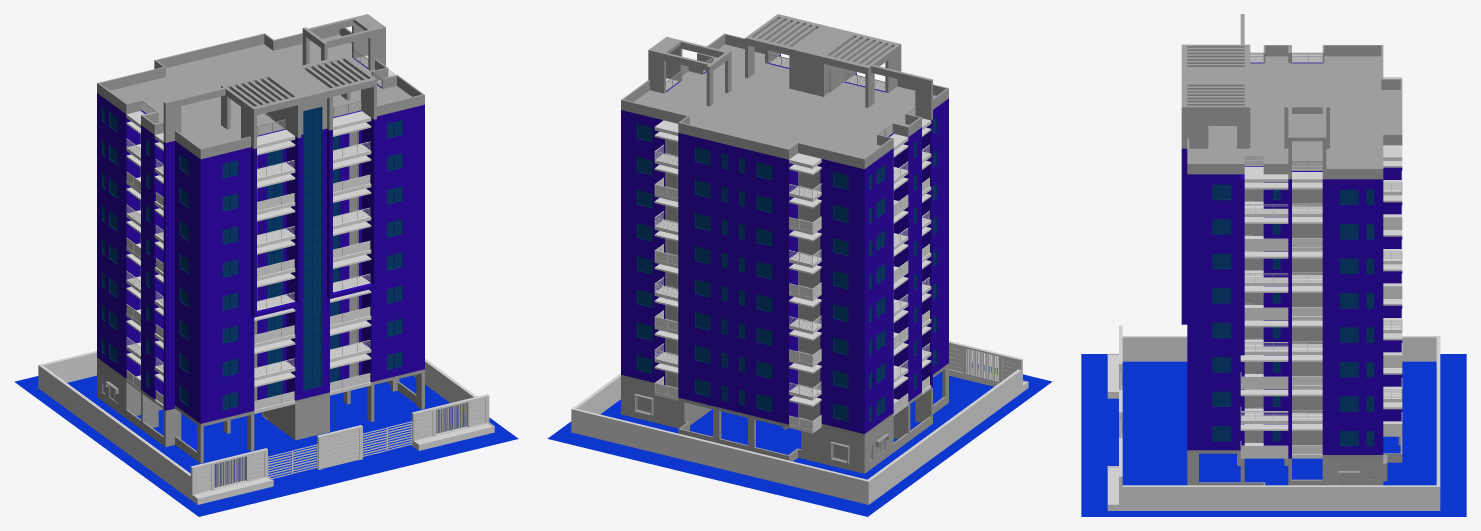
File: apartment_blue.fbx
3 renders of one model, left to right at view 1: azimuth 30°, elevation 25°; view 2: azimuth 150°, elevation 25°; view 3: azimuth 270°, elevation 25°, orthographic. The views are drawn at different scales.
Visible parts, largest first — view 1: Apartment_Building_17_obj:AB17_OBJ_01, Apartment_Building_17_obj:AB17_OBJ_15, Apartment_Building_17_obj:AB17_OBJ_03, ten_ten7, Apartment_Building_17_obj:AB17_OBJ_09, Apartment_Building_17_obj:AB17_OBJ_19, Apartment_Building_17_obj:AB17_OBJ_07, Apartment_Building_17_obj:AB17_OBJ_06, Apartment_Building_17_obj:AB17_OBJ_12, Apartment_Building_17_obj:AB17_OBJ_11, Apartment_Building_17_obj:AB17_OBJ_10, Apartment_Building_17_obj:AB17_OBJ_14 (+1 smaller); view 2: Apartment_Building_17_obj:AB17_OBJ_04, Apartment_Building_17_obj:AB17_OBJ_15, Apartment_Building_17_obj:AB17_OBJ_03, Apartment_Building_17_obj:AB17_OBJ_11, Apartment_Building_17_obj:AB17_OBJ_09, Apartment_Building_17_obj:AB17_OBJ_12, ten_ten7, Apartment_Building_17_obj:AB17_OBJ_06, Apartment_Building_17_obj:AB17_OBJ_10, Apartment_Building_17_obj:AB17_OBJ_07, Apartment_Building_17_obj:AB17_OBJ_05, Apartment_Building_17_obj:AB17_OBJ_14 (+1 smaller); view 3: Apartment_Building_17_obj:AB17_OBJ_02, ten_ten7, Apartment_Building_17_obj:AB17_OBJ_15, Apartment_Building_17_obj:AB17_OBJ_11, Apartment_Building_17_obj:AB17_OBJ_12, Apartment_Building_17_obj:AB17_OBJ_09, Apartment_Building_17_obj:AB17_OBJ_10, Apartment_Building_17_obj:AB17_OBJ_06, Apartment_Building_17_obj:AB17_OBJ_04, Apartment_Building_17_obj:AB17_OBJ_01, Apartment_Building_17_obj:AB17_OBJ_07, Apartment_Building_17_obj:AB17_OBJ_14 (+1 smaller).
Part boxes in pixels (box(x1,y1,x2,y2)): Apartment_Building_17_obj:AB17_OBJ_01: box(199, 104, 424, 423); Apartment_Building_17_obj:AB17_OBJ_15: box(97, 14, 424, 159); Apartment_Building_17_obj:AB17_OBJ_03: box(98, 94, 199, 422); ten_ten7: box(14, 375, 518, 516); Apartment_Building_17_obj:AB17_OBJ_09: box(101, 106, 402, 409); Apartment_Building_17_obj:AB17_OBJ_19: box(254, 111, 371, 413); Apartment_Building_17_obj:AB17_OBJ_07: box(190, 394, 494, 504); Apartment_Building_17_obj:AB17_OBJ_06: box(97, 361, 424, 463); Apartment_Building_17_obj:AB17_OBJ_12: box(38, 350, 476, 499); Apartment_Building_17_obj:AB17_OBJ_11: box(126, 55, 396, 408); Apartment_Building_17_obj:AB17_OBJ_10: box(140, 131, 358, 400); Apartment_Building_17_obj:AB17_OBJ_14: box(142, 49, 381, 135); Apartment_Building_17_obj:AB17_OBJ_04: box(621, 110, 865, 433); Apartment_Building_17_obj:AB17_OBJ_15: box(621, 14, 948, 169); Apartment_Building_17_obj:AB17_OBJ_03: box(865, 99, 948, 433); Apartment_Building_17_obj:AB17_OBJ_11: box(654, 70, 931, 433); Apartment_Building_17_obj:AB17_OBJ_09: box(636, 117, 937, 422); Apartment_Building_17_obj:AB17_OBJ_12: box(571, 369, 1021, 504); ten_ten7: box(547, 362, 1052, 516); Apartment_Building_17_obj:AB17_OBJ_06: box(621, 366, 948, 473); Apartment_Building_17_obj:AB17_OBJ_10: box(665, 139, 893, 421); Apartment_Building_17_obj:AB17_OBJ_07: box(949, 341, 1028, 392); Apartment_Building_17_obj:AB17_OBJ_05: box(621, 363, 948, 437); Apartment_Building_17_obj:AB17_OBJ_14: box(666, 53, 915, 136); Apartment_Building_17_obj:AB17_OBJ_02: box(1189, 166, 1381, 458); ten_ten7: box(1081, 354, 1466, 516); Apartment_Building_17_obj:AB17_OBJ_15: box(1181, 14, 1402, 179); Apartment_Building_17_obj:AB17_OBJ_11: box(1240, 55, 1402, 458); Apartment_Building_17_obj:AB17_OBJ_12: box(1122, 336, 1440, 510); Apartment_Building_17_obj:AB17_OBJ_09: box(1212, 184, 1373, 446); Apartment_Building_17_obj:AB17_OBJ_10: box(1244, 189, 1322, 444); Apartment_Building_17_obj:AB17_OBJ_06: box(1187, 436, 1402, 485); Apartment_Building_17_obj:AB17_OBJ_04: box(1381, 167, 1402, 454); Apartment_Building_17_obj:AB17_OBJ_01: box(1181, 148, 1189, 450); Apartment_Building_17_obj:AB17_OBJ_07: box(1107, 325, 1122, 510); Apartment_Building_17_obj:AB17_OBJ_14: box(1244, 52, 1322, 170).
Size of the model in its own units: 10 by 10.37 by 10.
